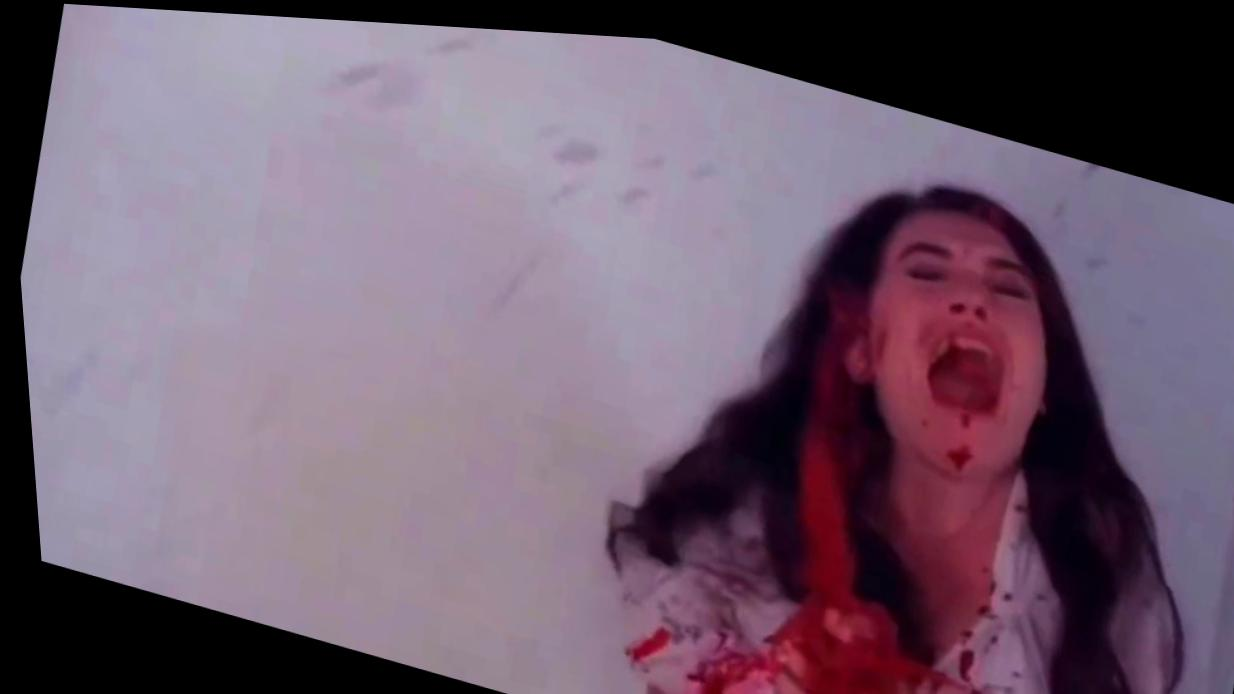Fire: (616, 259, 1048, 694)
